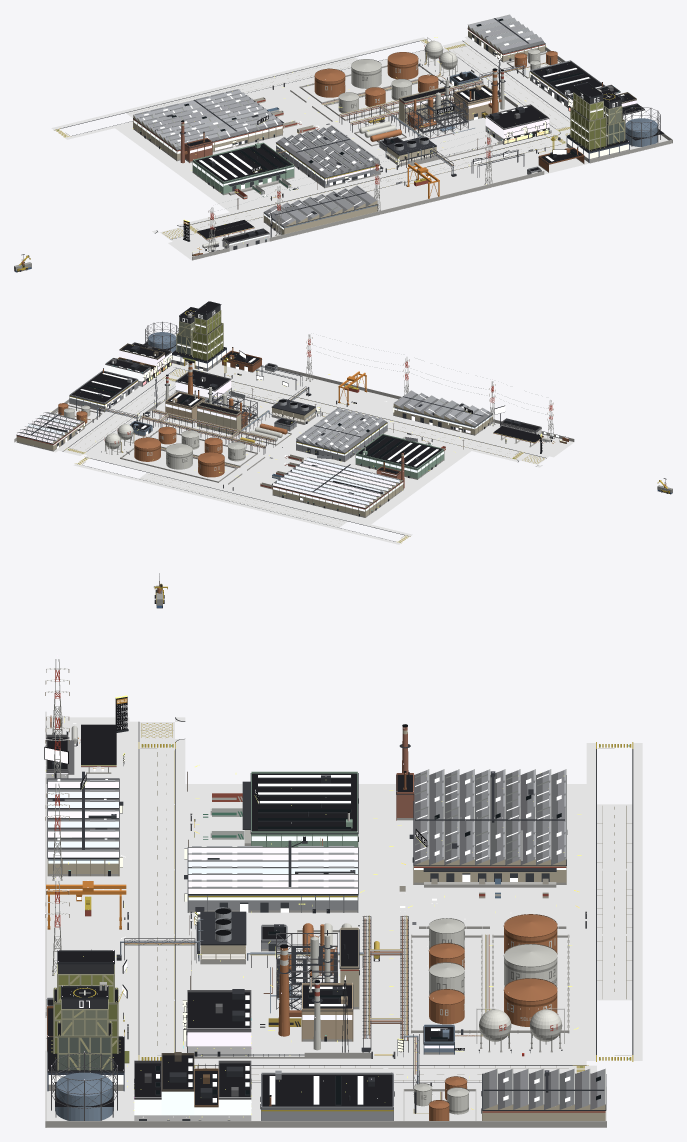
Rendered from world-phone-santo.glb.
The picture shows the model from 3 angles, top to bottom: view 1: azimuth 30°, elevation 25°; view 2: azimuth 150°, elevation 25°; view 3: azimuth 270°, elevation 25°; orthographic projection. The views are drawn at different scales.
Visible parts, largest first — view 1: santo_corrugated, santo_sidewalk, santo_asphalt, santo_steel, santo_tankplate, santo_roof, santo_metal, santo_trim, santo_castconcrete, santo_facade, santo_skylight, santo_kerb (+6 smaller); view 2: santo_sidewalk, santo_corrugated, santo_asphalt, santo_steel, santo_facade, santo_tankplate, santo_roof, santo_trim, santo_metal, santo_castconcrete, santo_kerb, santo_skylight (+4 smaller); view 3: santo_sidewalk, santo_asphalt, santo_corrugated, santo_roof, santo_tankplate, santo_steel, santo_facade, santo_metal, santo_trim, santo_castconcrete, santo_skylight, santo_kerb (+7 smaller).
Boxes of the visible parts, left/top/right/bottom form: santo_corrugated: left=133, top=15, right=623, bottom=234; santo_sidewalk: left=51, top=36, right=671, bottom=241; santo_asphalt: left=126, top=41, right=570, bottom=260; santo_steel: left=133, top=37, right=660, bottom=251; santo_tankplate: left=180, top=40, right=657, bottom=247; santo_roof: left=186, top=61, right=664, bottom=242; santo_metal: left=133, top=18, right=633, bottom=255; santo_trim: left=55, top=14, right=644, bottom=256; santo_castconcrete: left=133, top=36, right=672, bottom=260; santo_facade: left=133, top=30, right=644, bottom=245; santo_skylight: left=143, top=24, right=624, bottom=223; santo_kerb: left=54, top=39, right=569, bottom=239; santo_sidewalk: left=14, top=361, right=548, bottom=544; santo_corrugated: left=16, top=311, right=492, bottom=516; santo_asphalt: left=63, top=368, right=574, bottom=527; santo_steel: left=58, top=305, right=554, bottom=517; santo_facade: left=16, top=324, right=540, bottom=511; santo_tankplate: left=58, top=332, right=550, bottom=488; santo_roof: left=71, top=302, right=543, bottom=473; santo_trim: left=17, top=310, right=568, bottom=543; santo_metal: left=16, top=301, right=566, bottom=510; santo_castconcrete: left=14, top=313, right=574, bottom=517; santo_kerb: left=62, top=367, right=546, bottom=541; santo_skylight: left=31, top=350, right=488, bottom=498; santo_sidewalk: left=45, top=717, right=642, bottom=1127; santo_asphalt: left=45, top=717, right=632, bottom=1082; santo_corrugated: left=47, top=769, right=605, bottom=1120; santo_roof: left=47, top=724, right=453, bottom=1106; santo_tankplate: left=55, top=725, right=562, bottom=1120; santo_steel: left=46, top=659, right=586, bottom=1120; santo_facade: left=46, top=773, right=566, bottom=1115; santo_metal: left=46, top=716, right=606, bottom=1113; santo_trim: left=45, top=669, right=633, bottom=1107; santo_castconcrete: left=45, top=712, right=606, bottom=1127; santo_skylight: left=57, top=773, right=570, bottom=1104; santo_kerb: left=138, top=717, right=633, bottom=1082.
Size of the model in its own units: 497 by 48.72 by 235.
